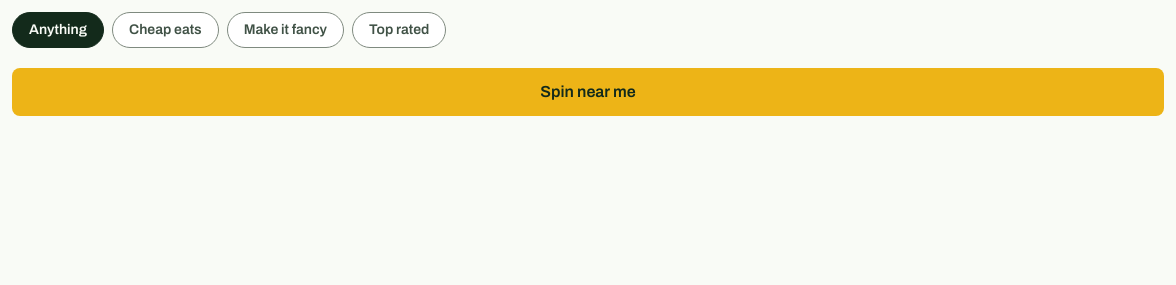
Test: QuickSpin › shows an invitation when no places are nearby
Click the button "Spin near me".
click(588, 92)  # box [12, 68, 1164, 116]
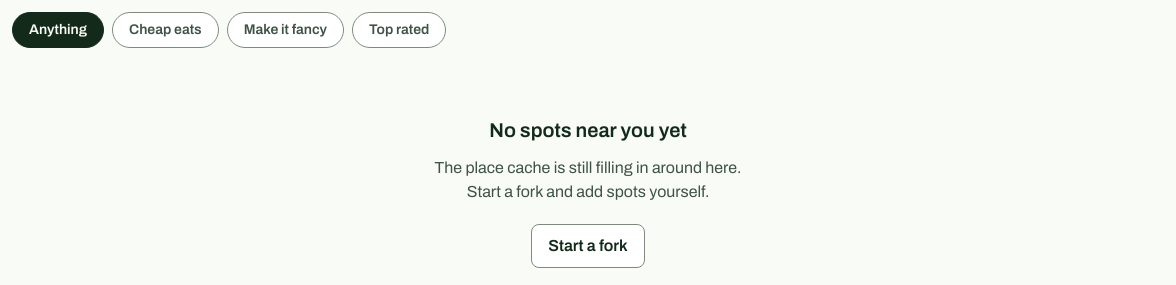
Expected: the heading "No spots near you yet" is shown, [489, 116, 687, 144]
Expected: the link "Start a fork" is shown, [531, 224, 645, 268]
